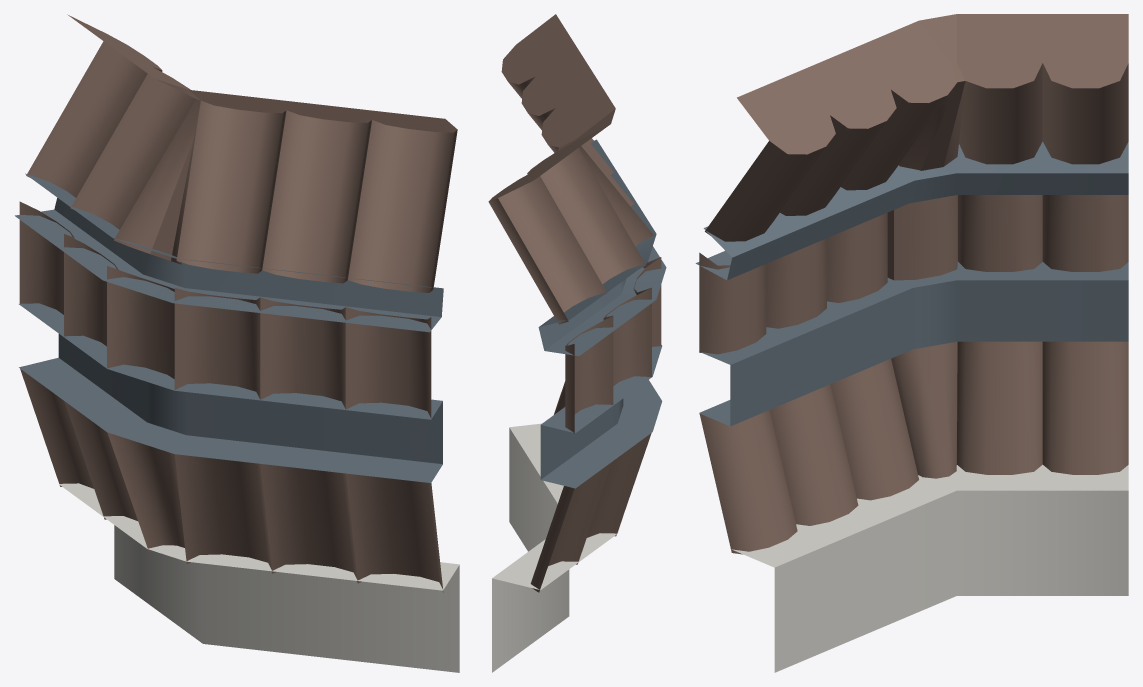
Rendered from MSH_Corner_01_Fipped.fbx.
3 renders of one model, left to right at view 1: azimuth 30°, elevation 25°; view 2: azimuth 150°, elevation 25°; view 3: azimuth 270°, elevation 25°, orthographic. The views are drawn at different scales.
Visible parts, largest first — view 1: MSH_Corner_01_Fipped; view 2: MSH_Corner_01_Fipped; view 3: MSH_Corner_01_Fipped.
Boxes of the visible parts, x1,y1,x2,y2 form: MSH_Corner_01_Fipped: (15,14,459,672); MSH_Corner_01_Fipped: (488,14,666,672); MSH_Corner_01_Fipped: (695,14,1128,672).
Size of the model in its own units: 172 by 359 by 252.
